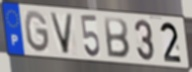2: (160, 21, 183, 64)
3: (133, 19, 156, 63)
5: (79, 14, 101, 58)
B: (103, 15, 131, 60)
G: (23, 9, 51, 55)
V: (48, 11, 75, 56)
